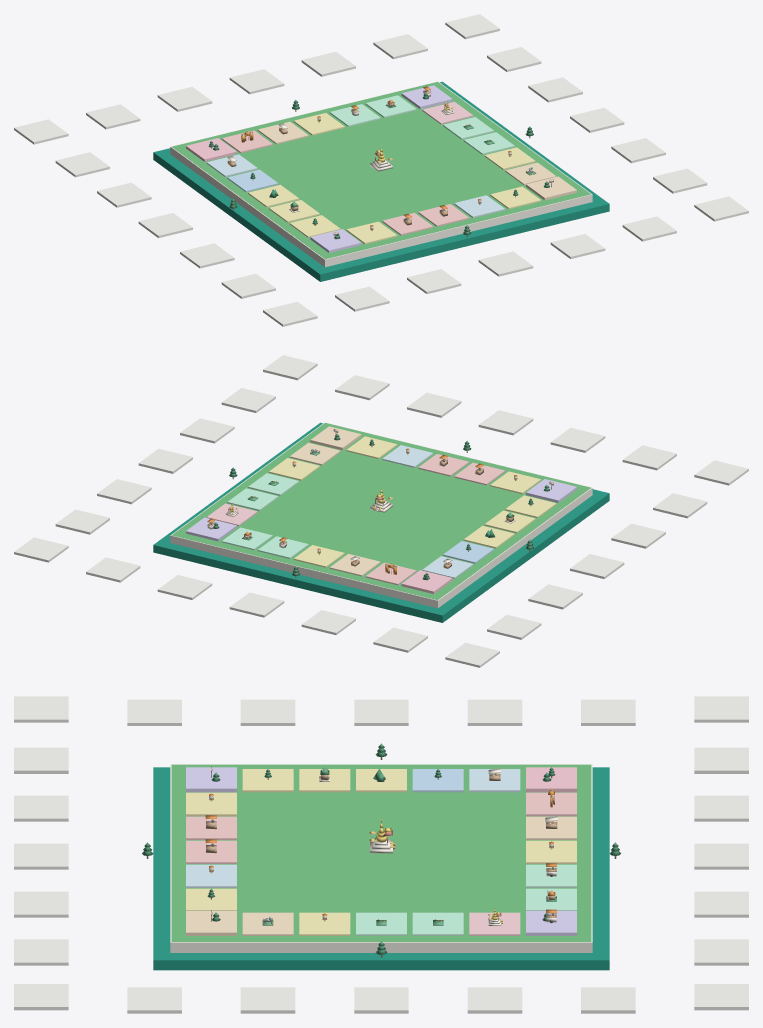
The model's file is chiangmai_board.glb.
3 renders of one model, top to bottom at view 1: azimuth 30°, elevation 25°; view 2: azimuth 150°, elevation 25°; view 3: azimuth 270°, elevation 25°, orthographic. The views are drawn at different scales.
Parts seen in each view (by area): view 1: chiangmai_grass, chiangmai_bottom_base, chiangmai_island, Sidewalk_14, Sidewalk_8, Sidewalk_15, Sidewalk_2, Sidewalk_3, Sidewalk_0, Sidewalk_12, Sidewalk_13, Sidewalk_20 (+39 smaller); view 2: chiangmai_grass, chiangmai_bottom_base, chiangmai_island, Sidewalk_10, Sidewalk_4, Sidewalk_15, Sidewalk_16, Sidewalk_3, Sidewalk_13, Sidewalk_18, Sidewalk_22, Sidewalk_5 (+39 smaller); view 3: chiangmai_grass, chiangmai_bottom_base, chiangmai_island, Sidewalk_10, Sidewalk_8, Sidewalk_20, Sidewalk_22, Sidewalk_0, Sidewalk_11, Sidewalk_12, Sidewalk_13, Sidewalk_14 (+39 smaller).
Part boxes in pixels (left/top/right/bottom): chiangmai_grass: left=172, top=82, right=590, bottom=259; chiangmai_bottom_base: left=153, top=81, right=609, bottom=281; chiangmai_island: left=170, top=81, right=592, bottom=267; Sidewalk_14: left=550, top=234, right=605, bottom=258; Sidewalk_8: left=528, top=77, right=582, bottom=102; Sidewalk_15: left=478, top=251, right=533, bottom=276; Sidewalk_2: left=157, top=86, right=212, bottom=111; Sidewalk_3: left=229, top=69, right=284, bottom=94; Sidewalk_0: left=14, top=119, right=68, bottom=144; Sidewalk_12: left=694, top=196, right=748, bottom=221; Sidewalk_13: left=622, top=216, right=676, bottom=241; Sidewalk_20: left=180, top=243, right=234, bottom=268; chiangmai_grass: left=172, top=423, right=590, bottom=600; chiangmai_bottom_base: left=153, top=422, right=609, bottom=622; chiangmai_island: left=170, top=422, right=592, bottom=608; Sidewalk_10: left=180, top=418, right=234, bottom=443; Sidewalk_4: left=157, top=575, right=212, bottom=599; Sidewalk_15: left=478, top=410, right=533, bottom=435; Sidewalk_16: left=550, top=427, right=605, bottom=452; Sidewalk_3: left=229, top=592, right=284, bottom=617; Sidewalk_13: left=335, top=375, right=389, bottom=400; Sidewalk_18: left=694, top=460, right=748, bottom=485; Sidewalk_22: left=528, top=584, right=582, bottom=609; Sidewalk_5: left=86, top=557, right=140, bottom=582; chiangmai_grass: left=171, top=764, right=591, bottom=941; chiangmai_bottom_base: left=153, top=767, right=609, bottom=970; chiangmai_island: left=170, top=764, right=592, bottom=952; Sidewalk_10: left=240, top=987, right=295, bottom=1013; Sidewalk_8: left=467, top=987, right=522, bottom=1013; Sidewalk_20: left=240, top=699, right=295, bottom=725; Sidewalk_22: left=467, top=699, right=522, bottom=725; Sidewalk_0: left=694, top=696, right=748, bottom=722; Sidewalk_11: left=127, top=987, right=181, bottom=1013; Sidewalk_12: left=14, top=984, right=68, bottom=1010; Sidewalk_13: left=14, top=939, right=68, bottom=965; Sidewalk_14: left=14, top=891, right=68, bottom=917.
Size of the model in its own units: 51.85 by 4.29 by 51.85.
